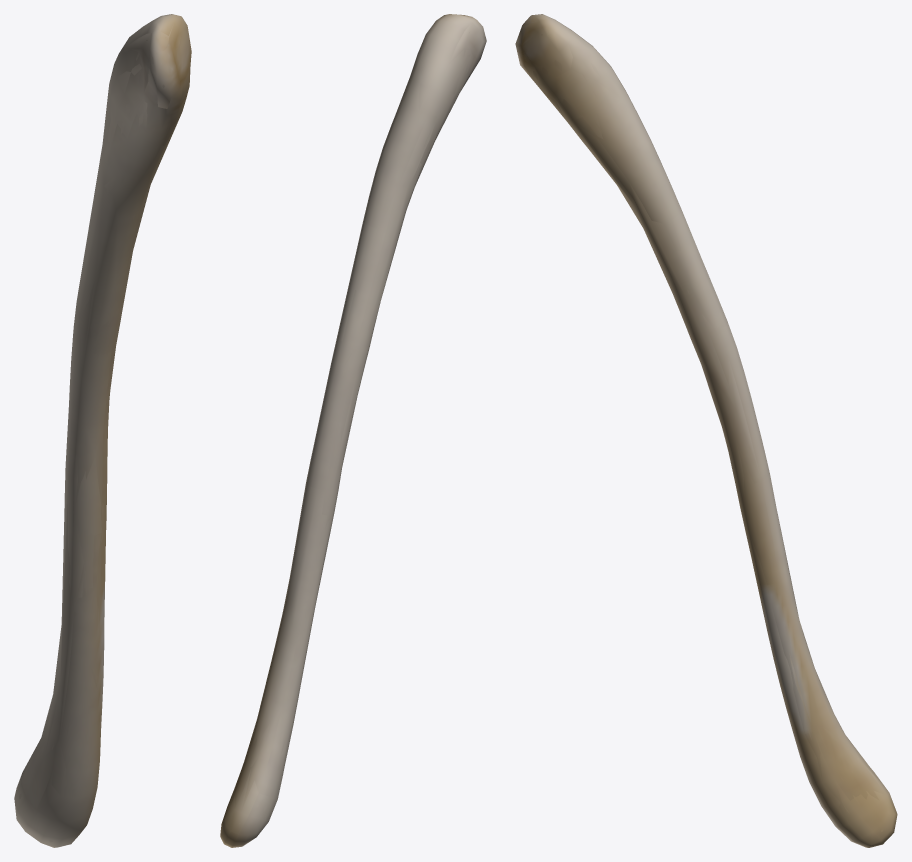
The model's file is R Fibula.fbx.
3 views of the same model, side by side, from view 1: azimuth 30°, elevation 25°; view 2: azimuth 150°, elevation 25°; view 3: azimuth 270°, elevation 25° (orthographic). The views are drawn at different scales.
Parts seen in each view (by area): view 1: R Fibula low, R Fibula, R Fibula high; view 2: R Fibula low, R Fibula, R Fibula high; view 3: R Fibula, R Fibula low, R Fibula high.
Boxes of the visible parts, x1,y1,x2,y2 form: R Fibula low: [15, 15, 191, 846]; R Fibula: [14, 14, 191, 847]; R Fibula high: [18, 28, 190, 842]; R Fibula low: [223, 15, 485, 846]; R Fibula: [220, 14, 486, 847]; R Fibula high: [221, 17, 483, 841]; R Fibula: [515, 14, 897, 847]; R Fibula low: [516, 14, 895, 847]; R Fibula high: [527, 20, 883, 831].
Bounding box in the file's own units: 2.21 × 14.99 × 6.54.
